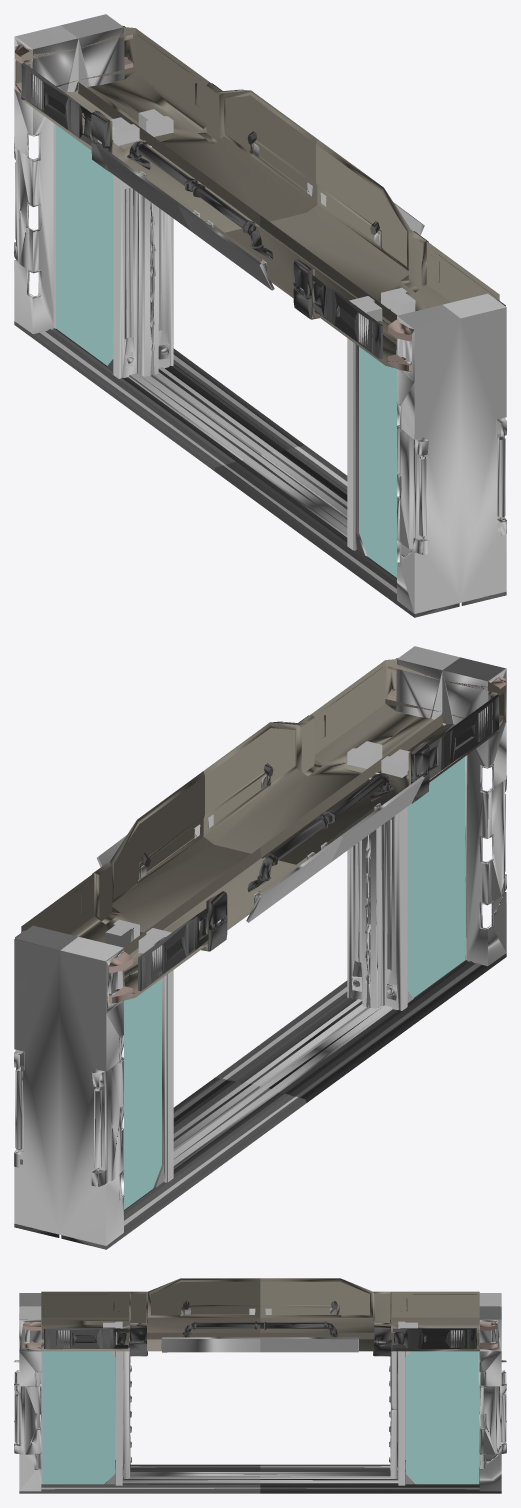
File: customs_arccorp_facade_a_doorframe_a.glb
3 renders of one model, top to bottom at view 1: azimuth 30°, elevation 25°; view 2: azimuth 150°, elevation 25°; view 3: azimuth 270°, elevation 25°, orthographic. The views are drawn at different scales.
Size of the model in its own units: 2.96 by 5.31 by 12.67.
